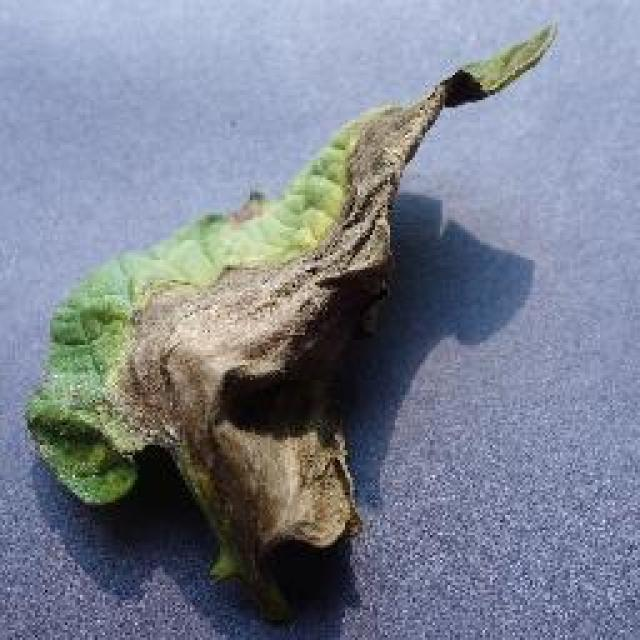Tomato late blight leaf: (20, 26, 545, 582)
